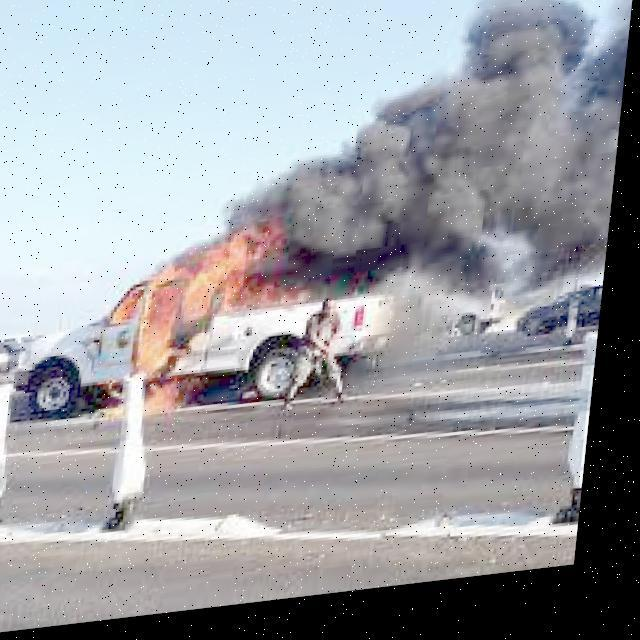Fire: (104, 234, 334, 425)
